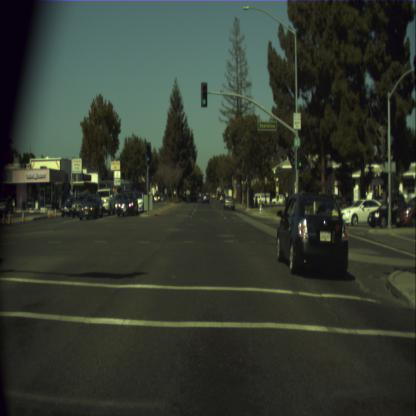Green: (200, 82, 208, 106), (297, 149, 302, 170)
GreenLeft: (145, 141, 150, 164)
